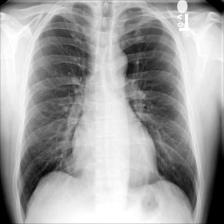normal: (17, 0, 205, 224)
